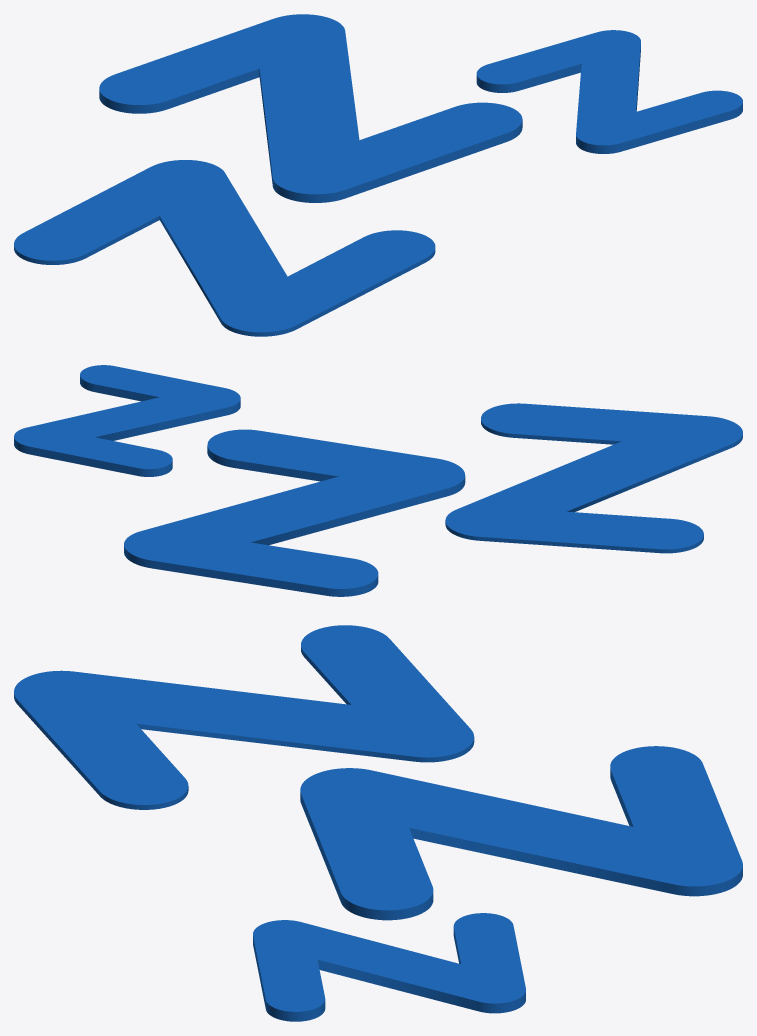
Rendered from emoji_u1f4a4.glb.
3 renders of one model, top to bottom at view 1: azimuth 30°, elevation 25°; view 2: azimuth 150°, elevation 25°; view 3: azimuth 270°, elevation 25°, orthographic. The views are drawn at different scales.
Visible parts, largest first — view 1: emoji_u1f4a4; view 2: emoji_u1f4a4; view 3: emoji_u1f4a4.
Part boxes in pixels (x1,y1,x2,y2): emoji_u1f4a4: (14, 14, 742, 336); emoji_u1f4a4: (14, 365, 742, 596); emoji_u1f4a4: (14, 625, 742, 1021).
Size of the model in its own units: 0.0338 by 0.0004 by 0.0268.
